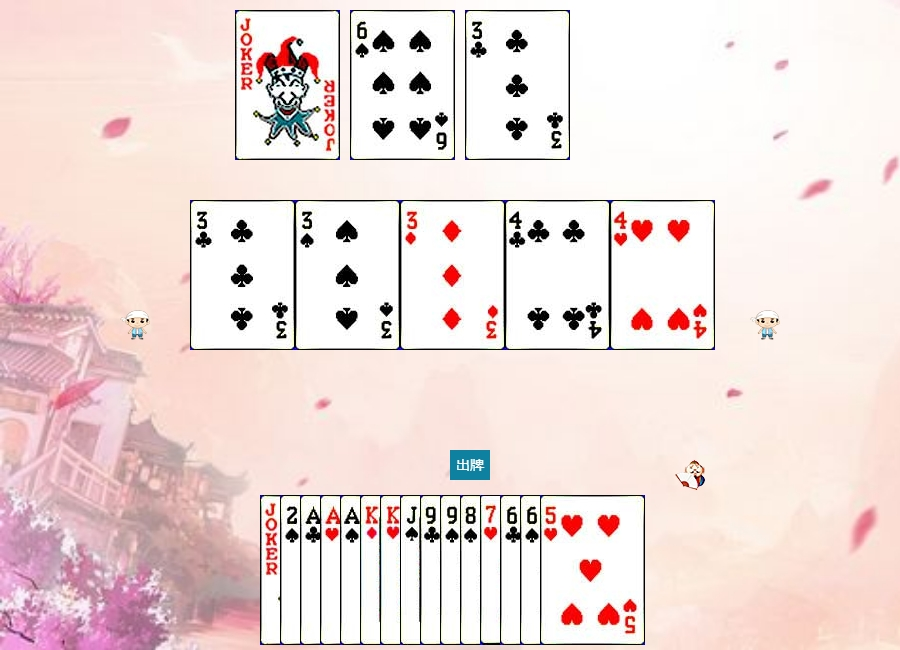11~4: (400, 495, 505, 645)
13~1: (360, 495, 465, 645)
13~3: (380, 495, 485, 645)
14~2: (300, 495, 405, 645)
14~3: (320, 495, 425, 645)
14~4: (340, 495, 445, 645)
15~4: (280, 495, 385, 645)
18~4: (235, 10, 340, 160), (260, 495, 365, 645)
3~1: (400, 200, 505, 350)
3~2: (465, 10, 570, 160), (190, 200, 295, 350)
3~4: (295, 200, 400, 350)
4~2: (505, 200, 610, 350)
4~3: (610, 200, 715, 350)
5~3: (540, 495, 645, 645)
6~2: (500, 495, 605, 645)
6~4: (350, 10, 455, 160), (520, 495, 625, 645)
7~3: (480, 495, 585, 645)
8~4: (460, 495, 565, 645)
9~2: (420, 495, 525, 645)
9~4: (440, 495, 545, 645)
